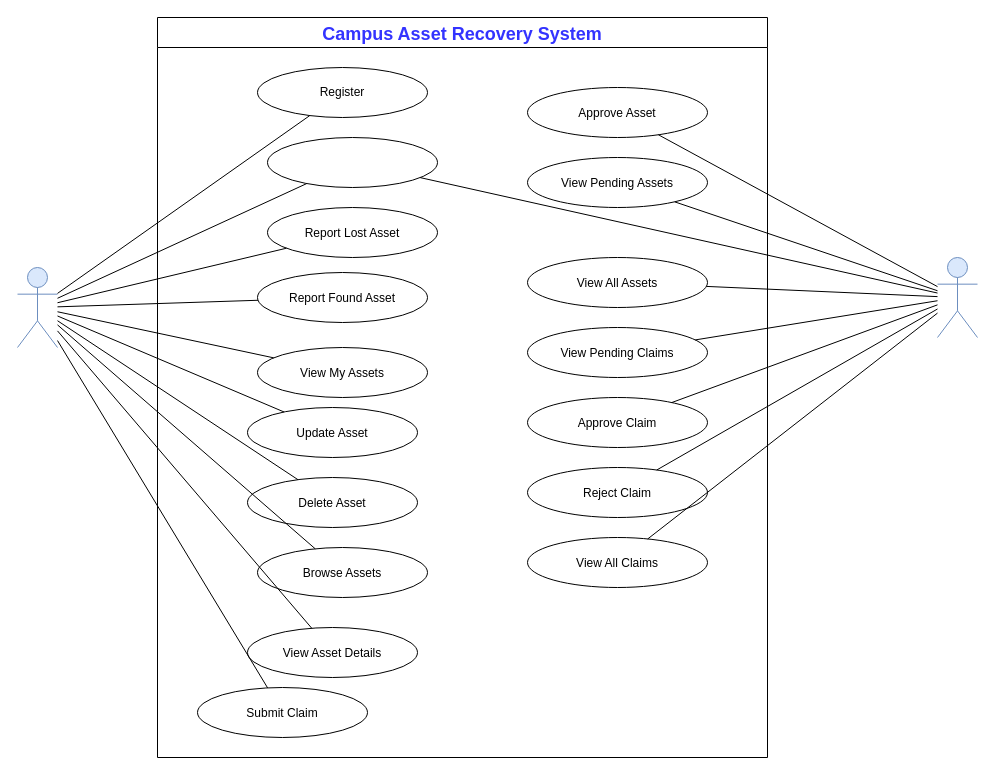
The diagram is 996 pixels wide and 775 high, and some of its shapes have lost their labels. The centre of each missing label's shape, as x and y in pixels:
"Admin" belongs at pixel 957 297.
"Login" belongs at pixel 352 162.
"Student" belongs at pixel 37 307.
